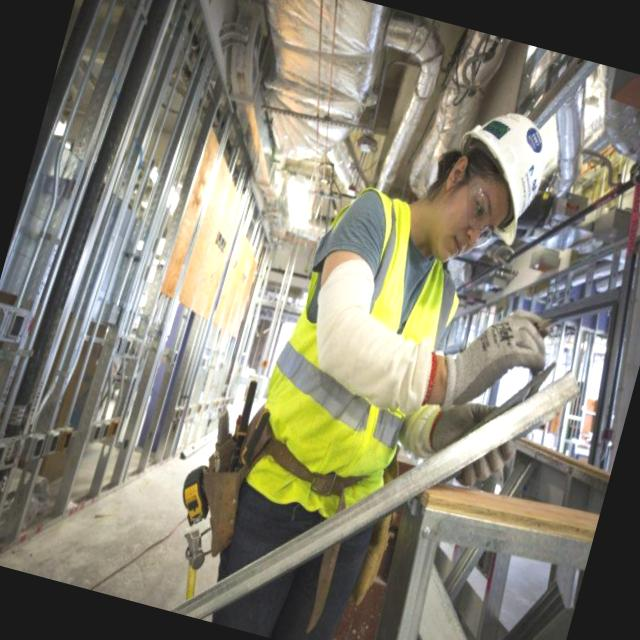helmet: (434, 100, 566, 261)
vest: (247, 167, 494, 525)
